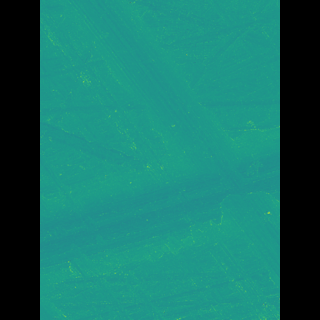Loch: (89, 0, 250, 285), (69, 149, 164, 320)
